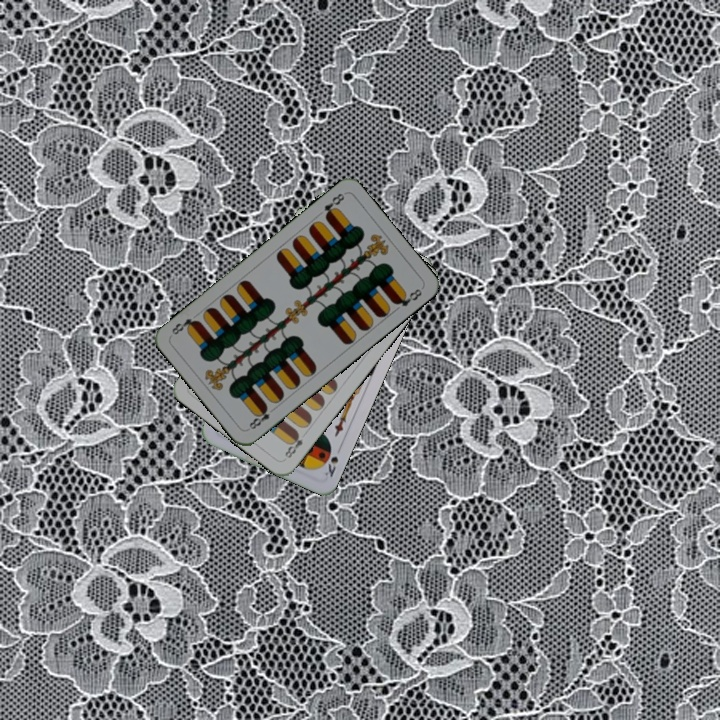E8: (244, 402, 279, 432), (320, 189, 347, 222), (280, 428, 306, 462)
SK: (320, 452, 341, 480)
